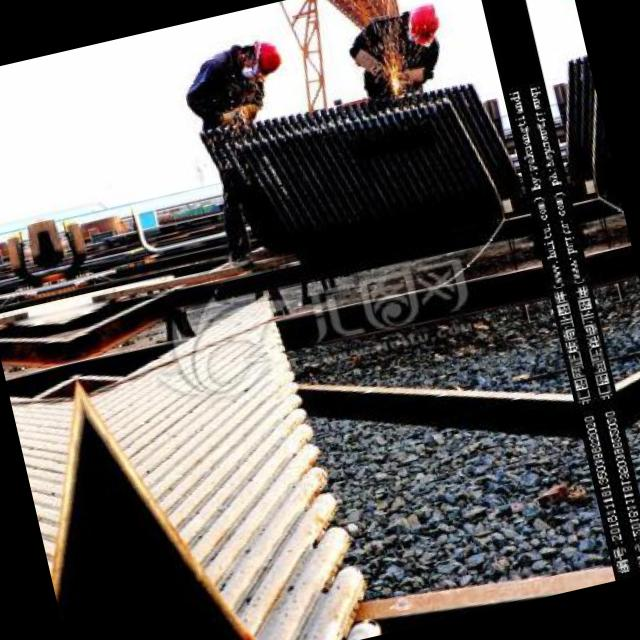helmet: (227, 36, 285, 88), (399, 0, 446, 57)
